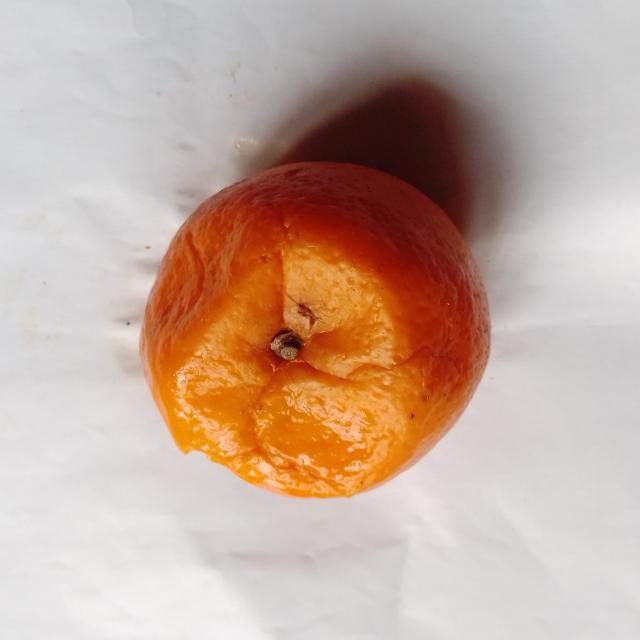orange: (141, 162, 489, 497)
